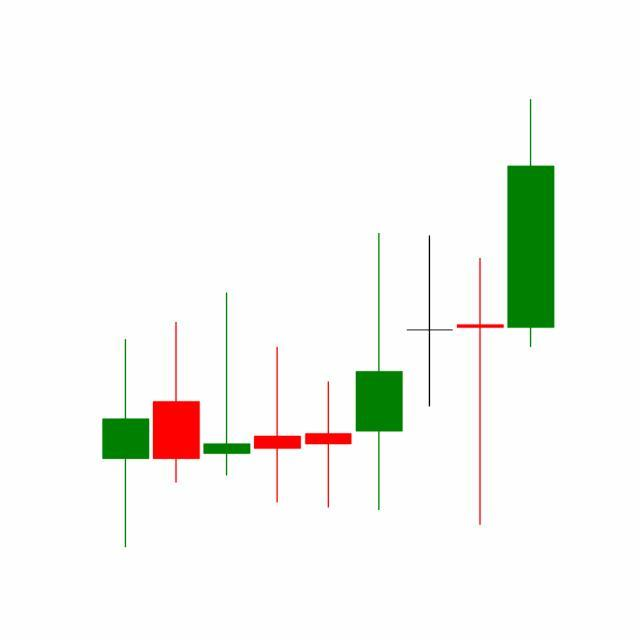Hikkake Pattern: (302, 99, 555, 531)
